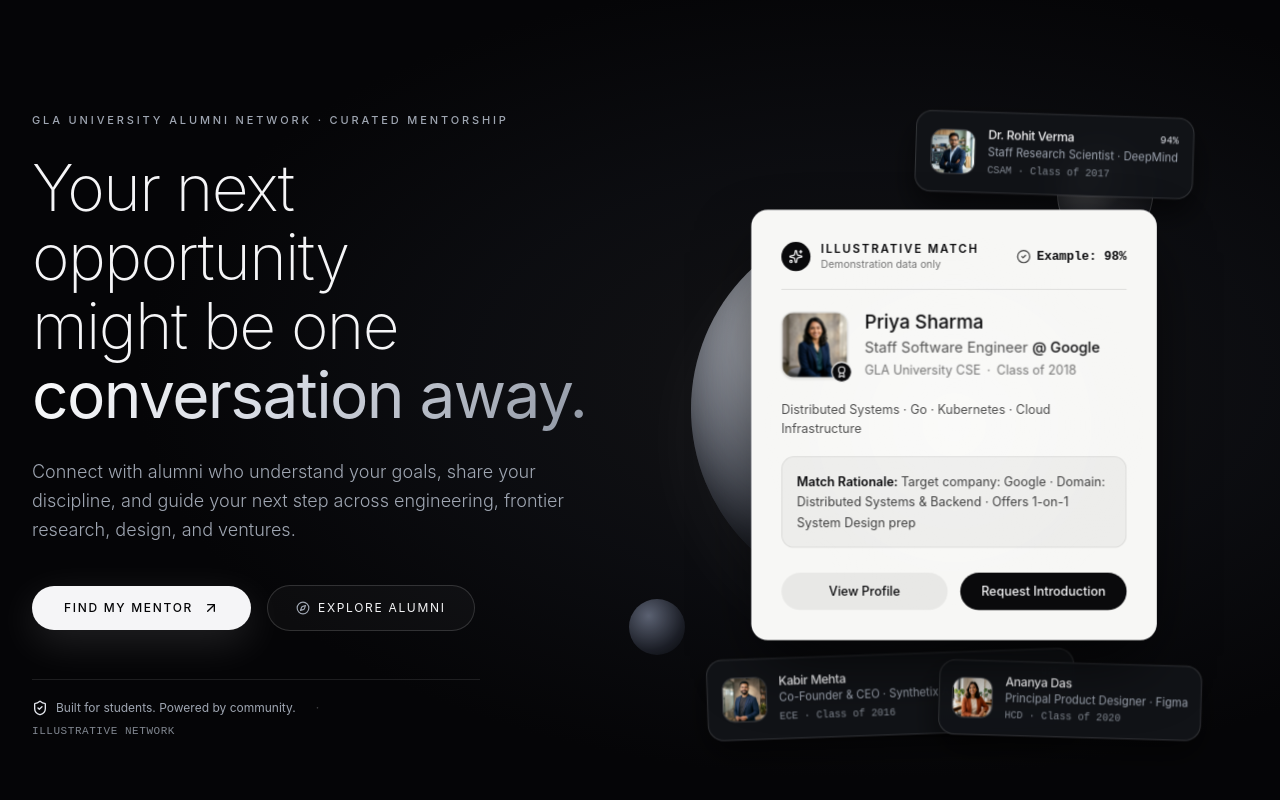
Scenario: HeroSection › opens CareerGoalFinderModal and MentorshipRequestModal from hero buttons
Click the button "Find My Mentor" at [142, 608], box x1=32 y1=586 x2=251 y2=630
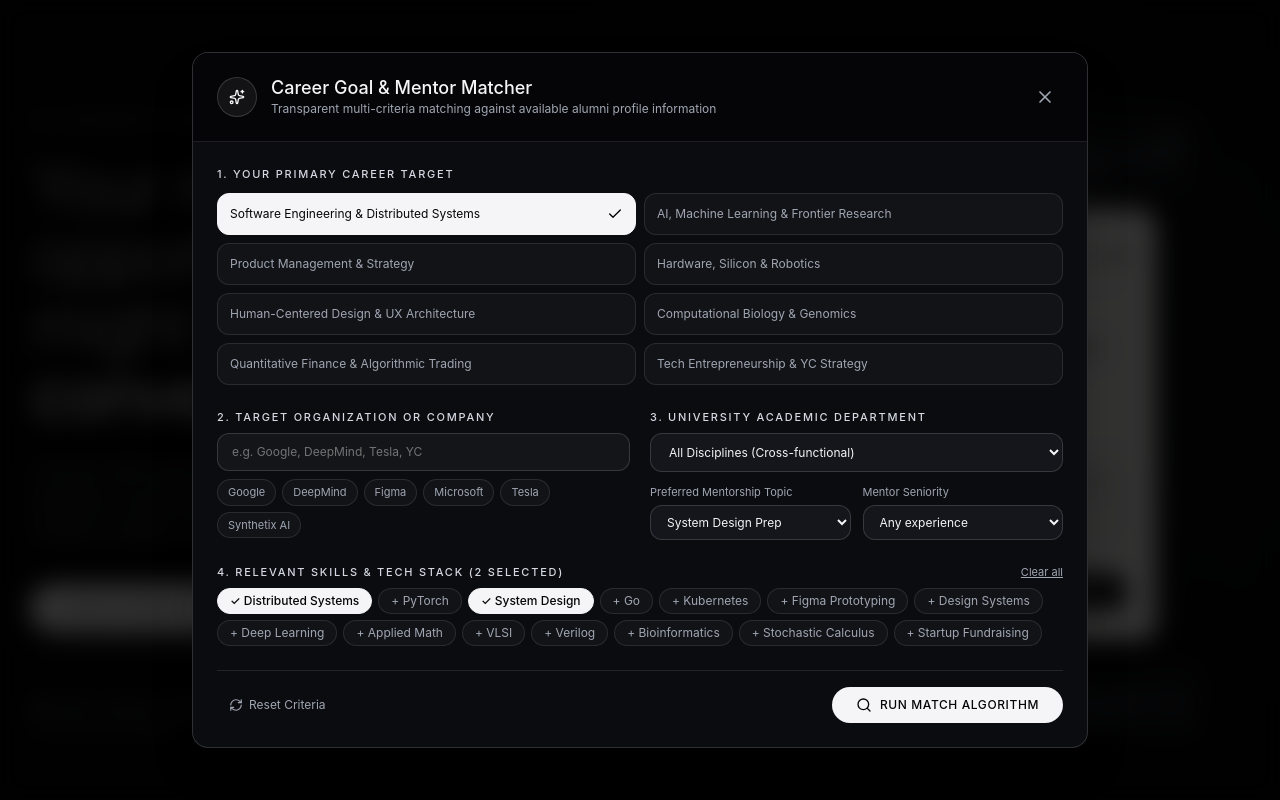
Expected: the dialog "Career Goal & Mentor Matcher" is shown
Click the button named "close career goal finder" at [1045, 97], box x1=1027 y1=79 x2=1063 y2=115
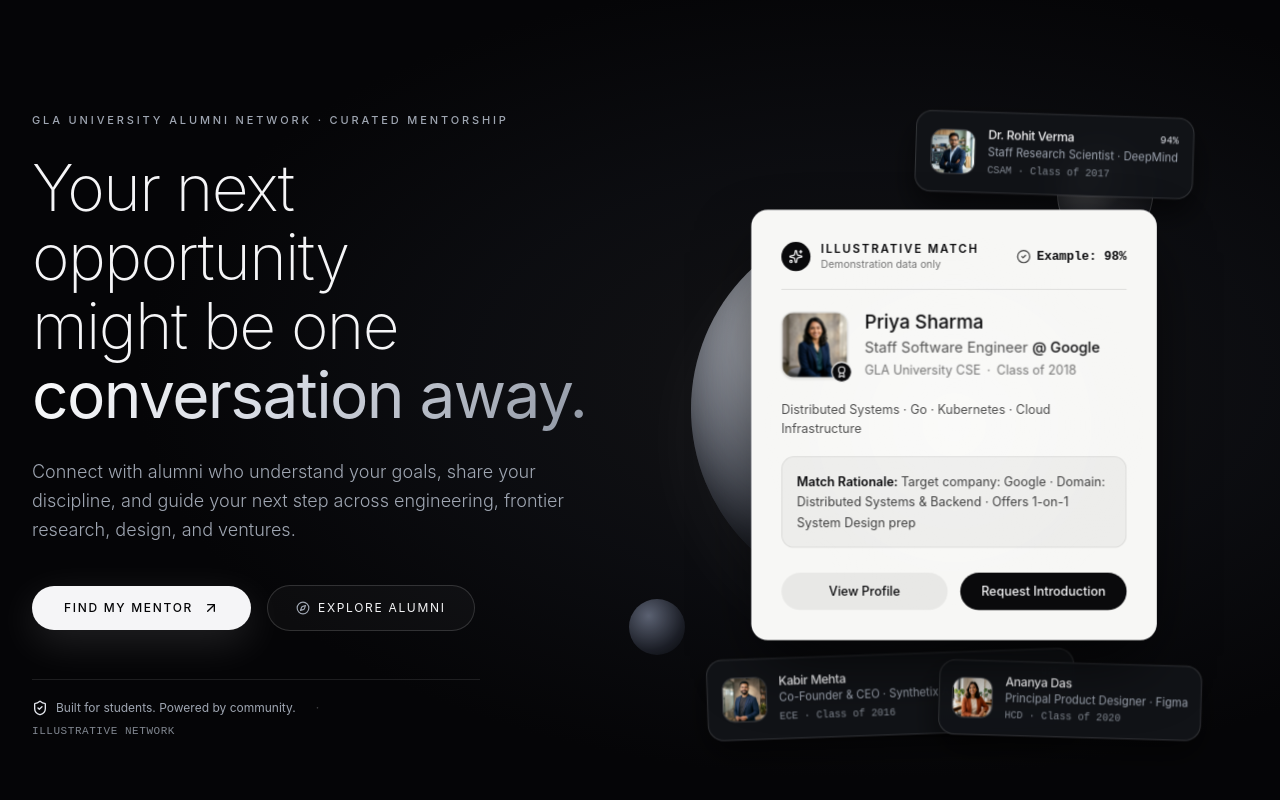
Click the button "Request Introduction" at [1043, 592], box x1=960 y1=573 x2=1127 y2=610
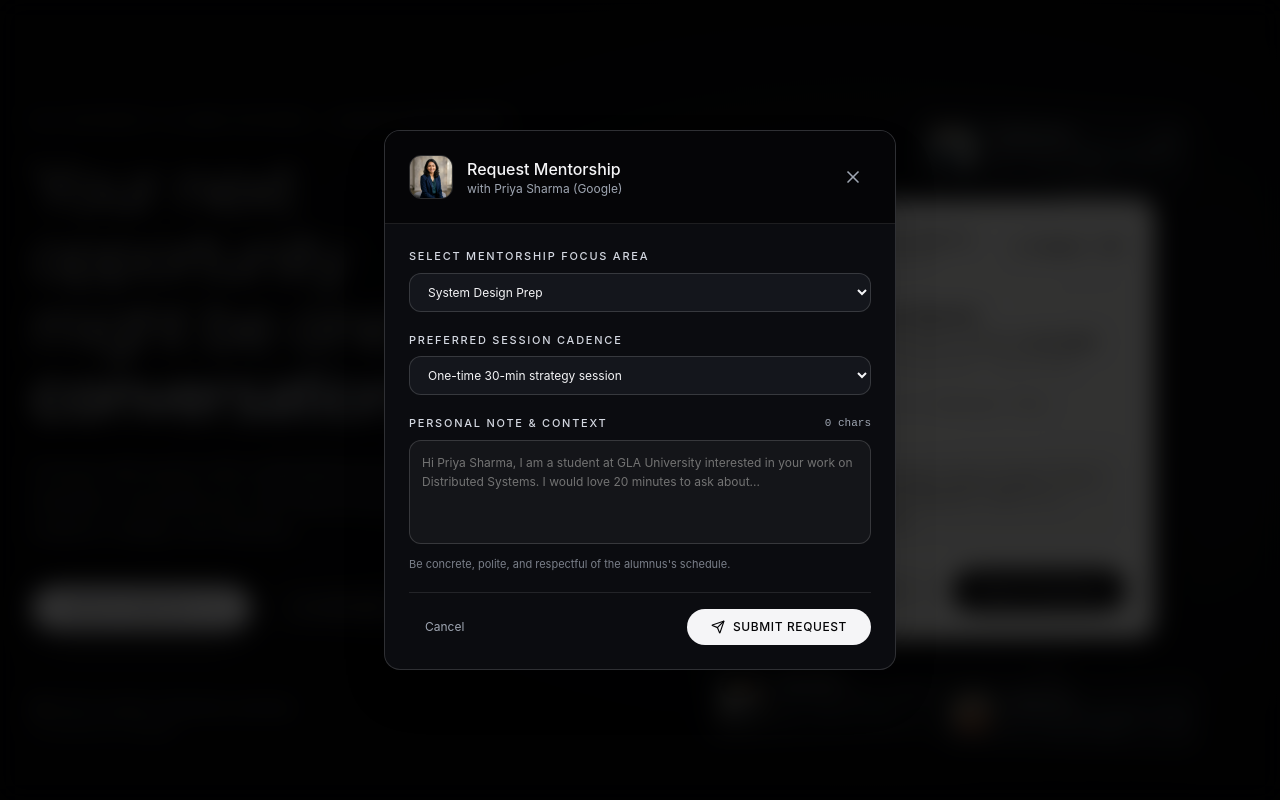
Expected: the dialog "Request Mentorship" is shown
Expected: the text "with Priya Sharma (Google)" is shown, x1=467 y1=181 x2=622 y2=197
